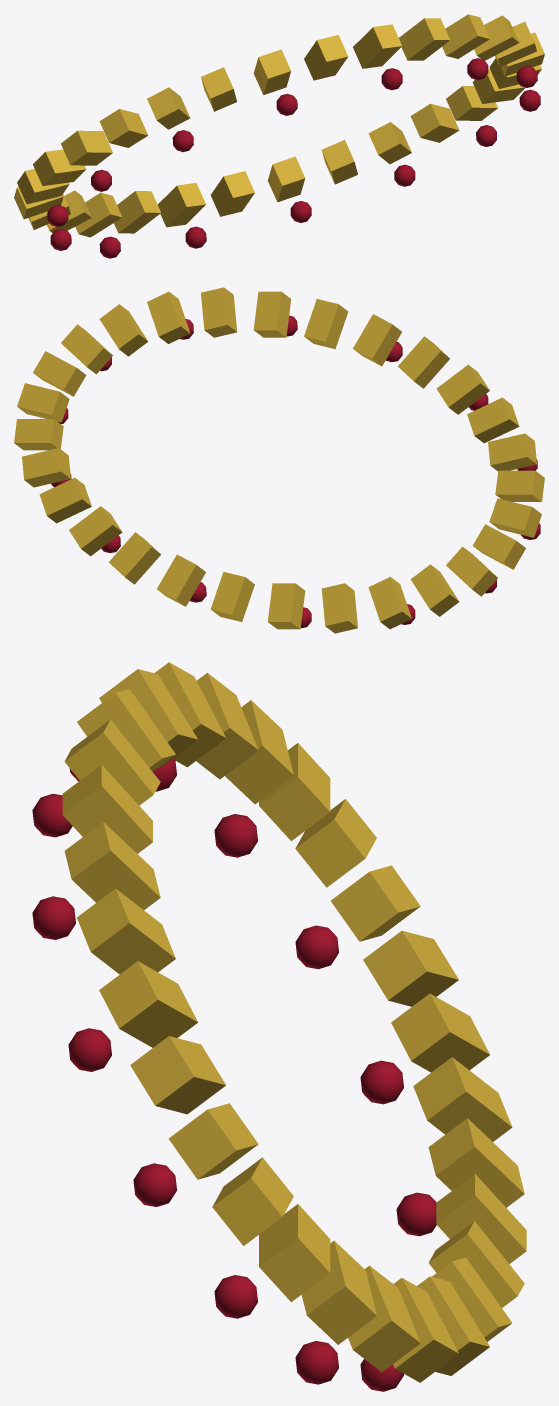
Rendered from valencia-ruby-bracelet.glb.
3 renders of one model, top to bottom at view 1: azimuth 30°, elevation 25°; view 2: azimuth 150°, elevation 25°; view 3: azimuth 270°, elevation 25°, orthographic. The views are drawn at different scales.
Visible parts, largest first — view 1: bracelet_link (×28), bracelet_gem (×14); view 2: bracelet_link (×28); view 3: bracelet_link (×28), bracelet_gem (×11).
Part boxes in pixels (x1,y1,x2,y2): bracelet_link (×28): (14, 14, 544, 237); bracelet_gem (×14): (47, 58, 540, 258); bracelet_link (×28): (14, 287, 544, 633); bracelet_link (×28): (62, 662, 526, 1382); bracelet_gem (×11): (32, 793, 436, 1391).
Size of the model in its own units: 2.32 by 1.12 by 0.9785.
